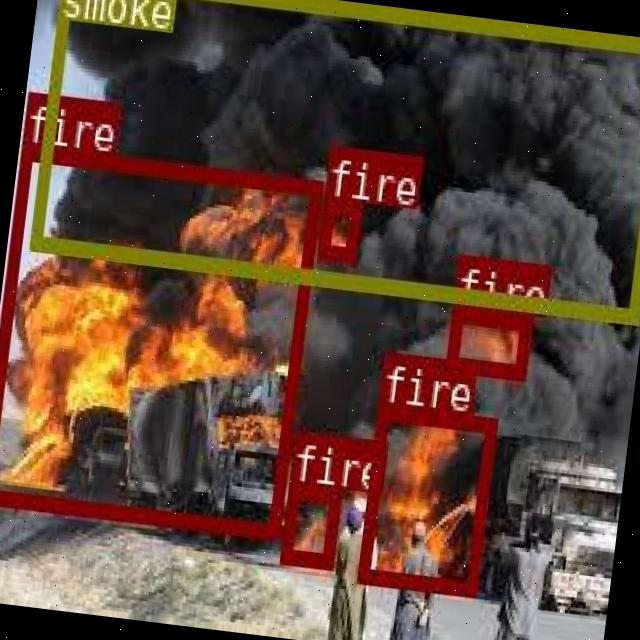fire: (0, 141, 321, 534), (354, 402, 494, 594), (444, 304, 528, 376), (278, 481, 340, 567), (317, 196, 360, 260)
smoke: (28, 0, 640, 319)
